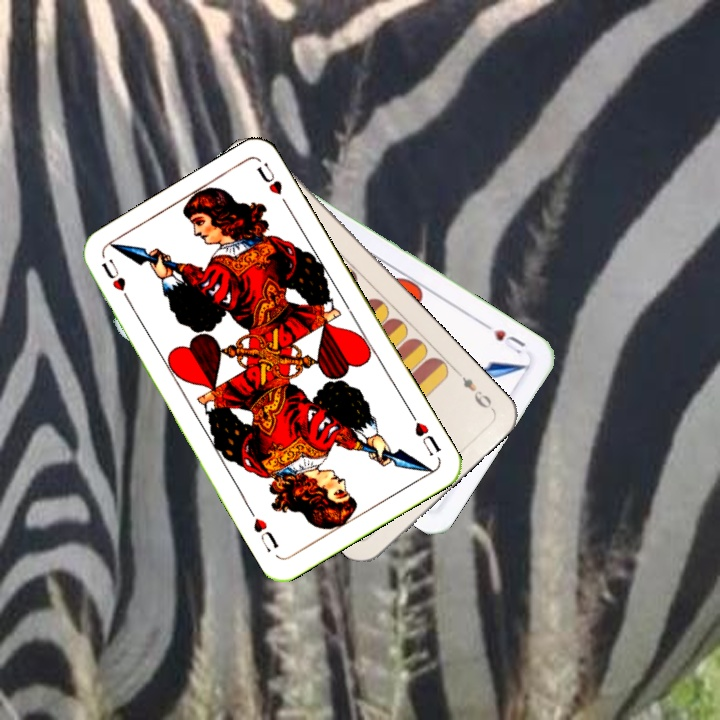E9: (451, 366, 496, 413)
HU: (97, 254, 135, 308), (406, 408, 444, 459), (479, 319, 528, 357)
